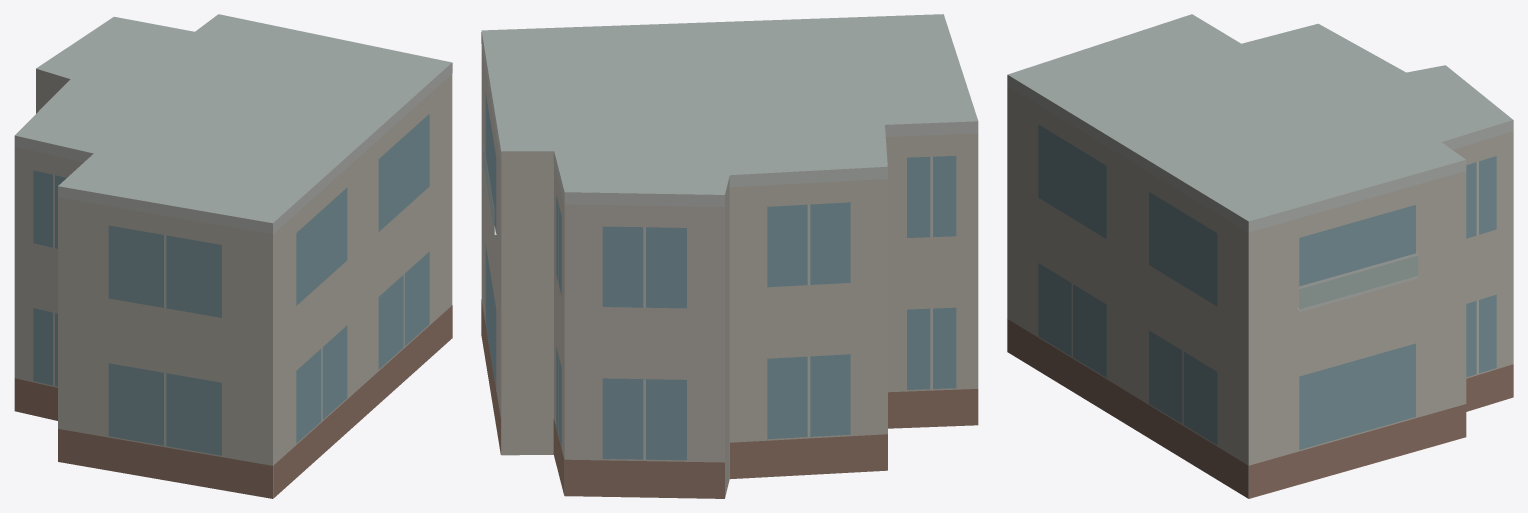
Rendered from survey-upis-32610786.glb.
3 renders of one model, left to right at view 1: azimuth 30°, elevation 25°; view 2: azimuth 150°, elevation 25°; view 3: azimuth 270°, elevation 25°, orthographic. The views are drawn at different scales.
Parts seen in each view (by area): view 1: survey-upis-32610786.tmp; view 2: survey-upis-32610786.tmp; view 3: survey-upis-32610786.tmp.
Part boxes in pixels (x1,y1,x2,y2): survey-upis-32610786.tmp: (14,14,452,498); survey-upis-32610786.tmp: (481,14,978,498); survey-upis-32610786.tmp: (1007,14,1513,498).
Bounding box in the file's own units: 9.8 × 6.1 × 10.1.
